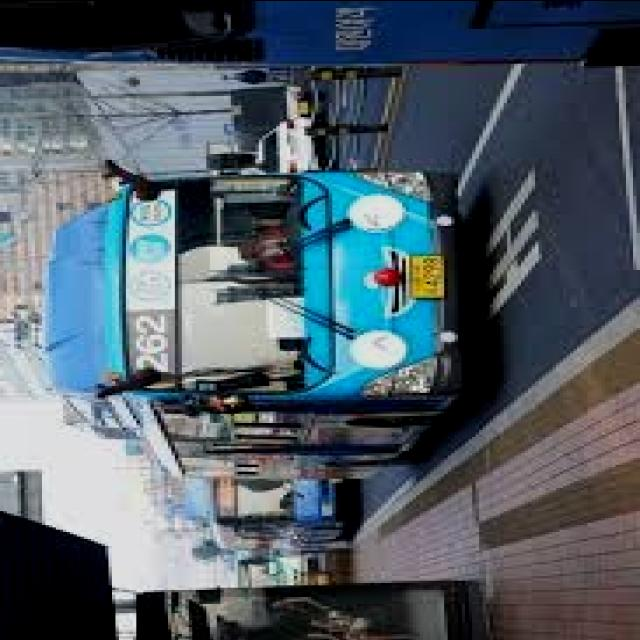bus: (23, 153, 477, 488), (210, 467, 358, 555)
